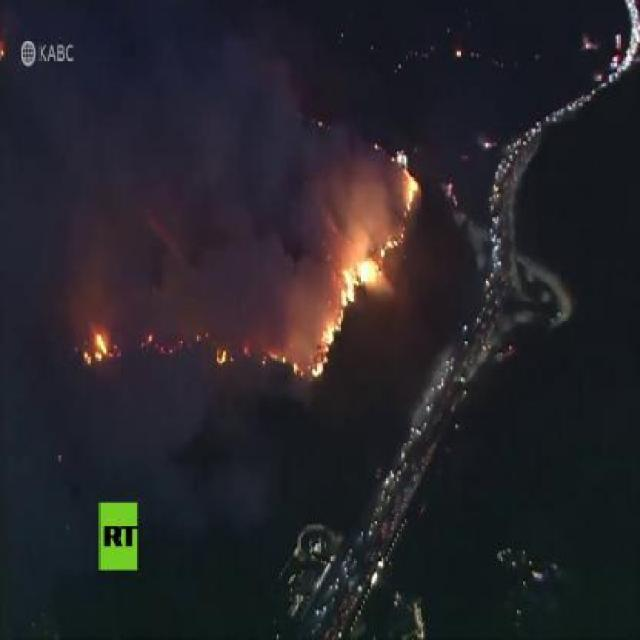Fire: (312, 267, 354, 375), (358, 239, 396, 284), (80, 332, 108, 363), (406, 168, 419, 210), (215, 347, 228, 364), (292, 362, 303, 376)
